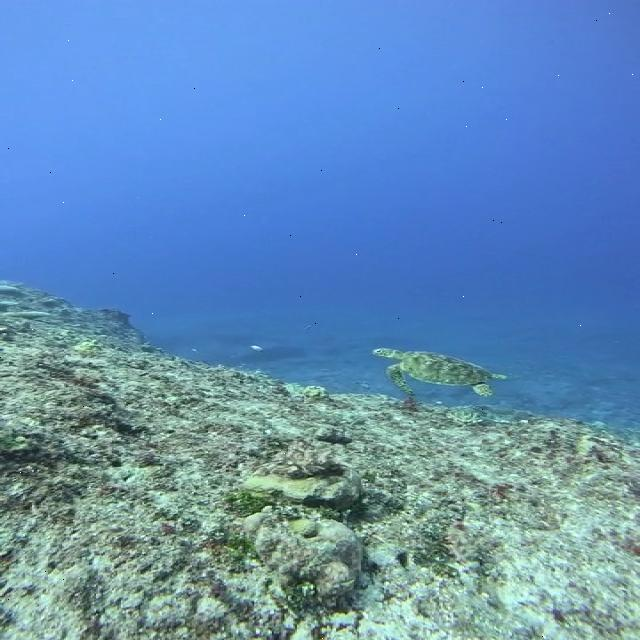turtle: (371, 348, 508, 397)
